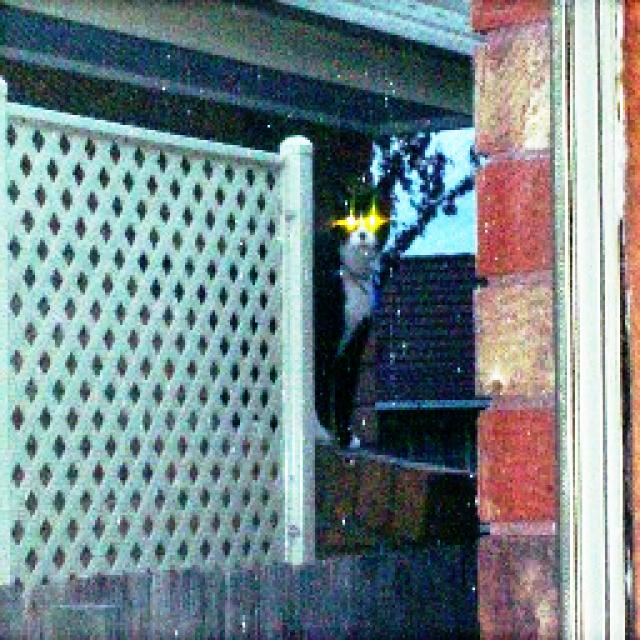cat: (286, 142, 400, 471)
